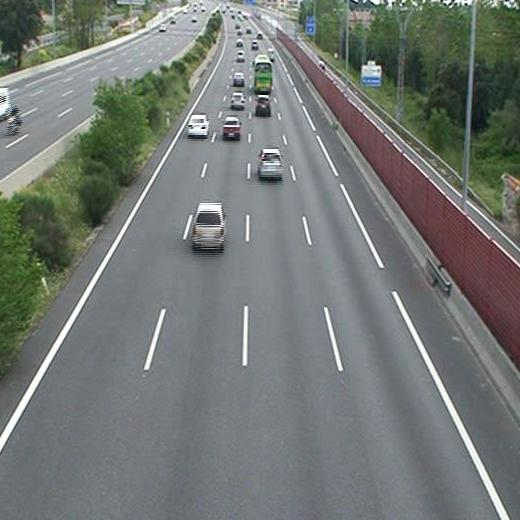bus: (253, 55, 271, 92)
car: (192, 203, 226, 247), (259, 148, 284, 177), (188, 115, 209, 135), (222, 116, 240, 137), (255, 95, 271, 112), (230, 92, 245, 108), (233, 72, 245, 85), (236, 50, 245, 61), (250, 40, 259, 51)
